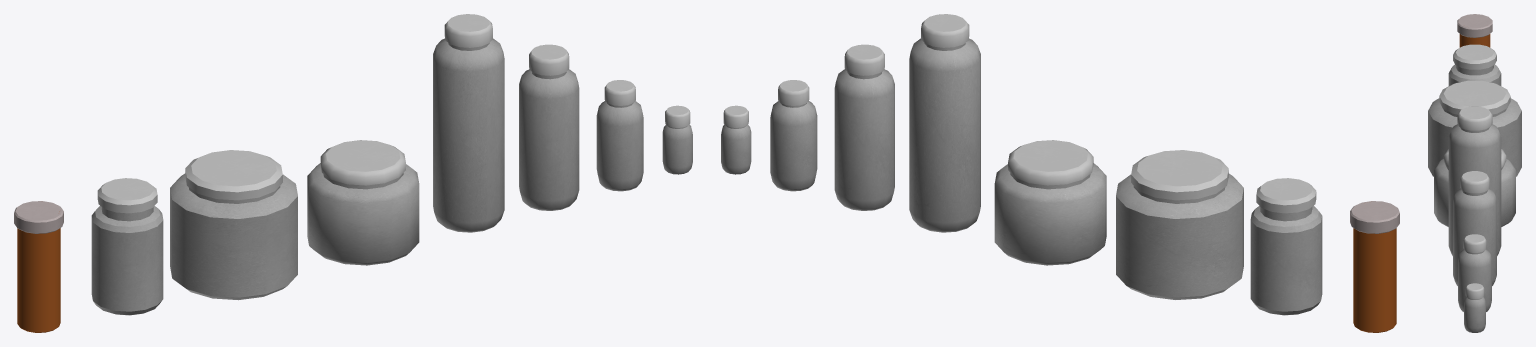
File: Pill_Bottles.fbx
The picture shows the model from 3 angles, left to right: view 1: azimuth 30°, elevation 25°; view 2: azimuth 150°, elevation 25°; view 3: azimuth 270°, elevation 25°; orthographic projection. The views are drawn at different scales.
Parts seen in each view (by area): view 1: Pill Bottle large_body, Pill Bottle wide2_body, Pill Bottle wide3_body, Pill Bottle med_body, Bottle wide1_body, Pill Bottle_body, Pill Bottle wide2_cap, Pill Bottle small_body, Pill Bottle wide3_cap, Bottle wide1_cap, Pill Bottle large_cap, Pill Bottle_cap (+4 smaller); view 2: Pill Bottle large_body, Pill Bottle wide2_body, Pill Bottle wide3_body, Pill Bottle med_body, Bottle wide1_body, Pill Bottle_body, Pill Bottle wide2_cap, Pill Bottle small_body, Pill Bottle wide3_cap, Bottle wide1_cap, Pill Bottle large_cap, Pill Bottle_cap (+4 smaller); view 3: Pill Bottle large_body, Pill Bottle wide2_body, Pill Bottle med_body, Pill Bottle wide2_cap, Pill Bottle wide3_body, Pill Bottle small_body, Bottle wide1_cap, Bottle wide1_body, Pill Bottle large_cap, Pill Bottle_cap, Pill Bottle xsmall_body, Pill Bottle med_cap (+4 smaller).
Part boxes in pixels (x1,y1,x2,y2): Pill Bottle large_body: [433, 38, 504, 232]; Pill Bottle wide2_body: [170, 173, 297, 300]; Pill Bottle wide3_body: [307, 163, 419, 265]; Pill Bottle med_body: [519, 69, 579, 210]; Bottle wide1_body: [91, 205, 163, 315]; Pill Bottle_body: [17, 228, 60, 332]; Pill Bottle wide2_cap: [185, 150, 282, 200]; Pill Bottle small_body: [596, 101, 643, 191]; Pill Bottle wide3_cap: [320, 140, 405, 185]; Bottle wide1_cap: [97, 178, 157, 213]; Pill Bottle large_cap: [444, 14, 492, 47]; Pill Bottle_cap: [14, 201, 63, 233]; Pill Bottle large_body: [909, 38, 980, 232]; Pill Bottle wide2_body: [1116, 173, 1243, 299]; Pill Bottle wide3_body: [994, 163, 1106, 265]; Pill Bottle med_body: [834, 69, 894, 210]; Bottle wide1_body: [1250, 205, 1322, 315]; Pill Bottle_body: [1353, 228, 1396, 332]; Pill Bottle wide2_cap: [1131, 150, 1228, 200]; Pill Bottle small_body: [770, 101, 817, 191]; Pill Bottle wide3_cap: [1008, 140, 1093, 185]; Bottle wide1_cap: [1256, 178, 1316, 213]; Pill Bottle large_cap: [921, 14, 969, 47]; Pill Bottle_cap: [1350, 201, 1399, 233]; Pill Bottle large_body: [1448, 124, 1501, 255]; Pill Bottle wide2_body: [1428, 98, 1521, 176]; Pill Bottle med_body: [1453, 189, 1496, 285]; Pill Bottle wide2_cap: [1439, 80, 1510, 114]; Pill Bottle wide3_body: [1434, 159, 1515, 226]; Pill Bottle small_body: [1458, 250, 1491, 311]; Bottle wide1_cap: [1453, 44, 1496, 69]; Bottle wide1_body: [1448, 64, 1501, 85]; Pill Bottle large_cap: [1457, 106, 1492, 130]; Pill Bottle_cap: [1457, 14, 1492, 37]; Pill Bottle xsmall_body: [1464, 297, 1485, 332]; Pill Bottle med_cap: [1460, 171, 1489, 193].
Size of the model in its own units: 1073 by 300 by 179.
